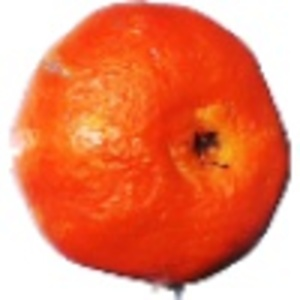tangerina: (9, 1, 300, 300)
